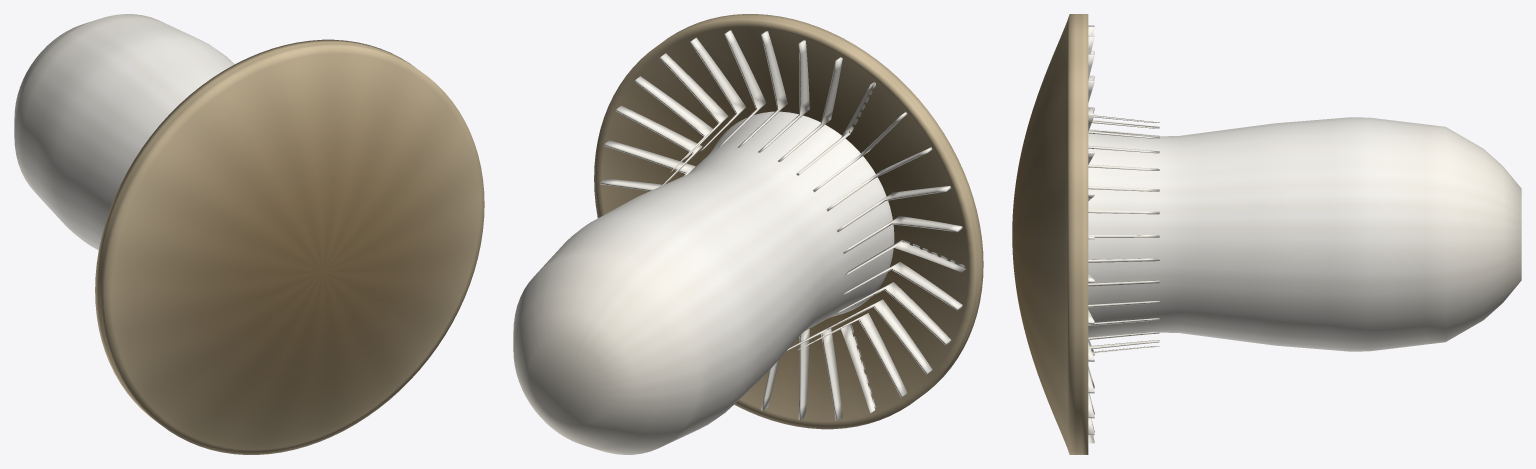
The model's file is pleurotus-eryngii.glb.
3 views of the same model, side by side, from view 1: azimuth 30°, elevation 25°; view 2: azimuth 150°, elevation 25°; view 3: azimuth 270°, elevation 25° (orthographic).
Parts seen in each view (by area): view 1: pileus_cap, stipe_stem; view 2: stipe_stem, pileus_cap, lamellae_gills; view 3: stipe_stem, pileus_cap, lamellae_gills.
Boxes of the visible parts, x1,y1,x2,y2 form: pileus_cap: (95, 39, 484, 454); stipe_stem: (14, 14, 234, 249); stipe_stem: (513, 111, 894, 454); pileus_cap: (594, 14, 983, 429); lamellae_gills: (600, 30, 965, 420); stipe_stem: (1088, 117, 1521, 351); pileus_cap: (1012, 14, 1088, 454); lamellae_gills: (1088, 25, 1159, 443).
Bounding box in the file's own units: 2 × 2 × 2.31.
